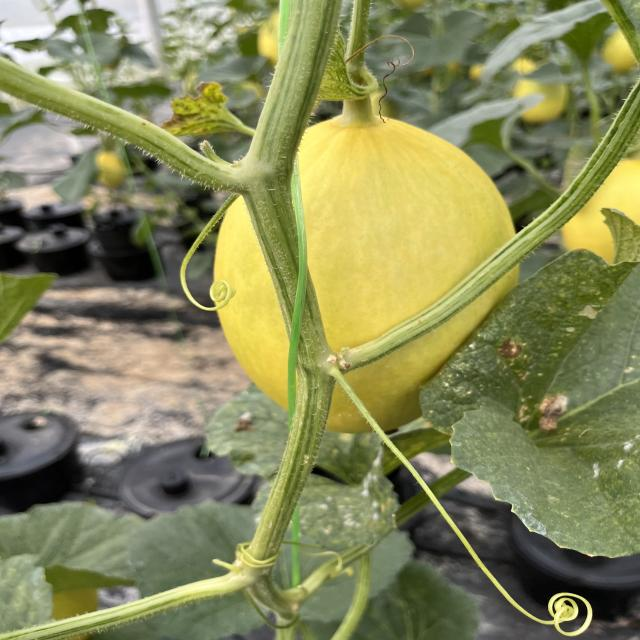alternaria leaf blight: (430, 222, 640, 567), (162, 78, 250, 144)
powdery mildew: (423, 225, 640, 560)
